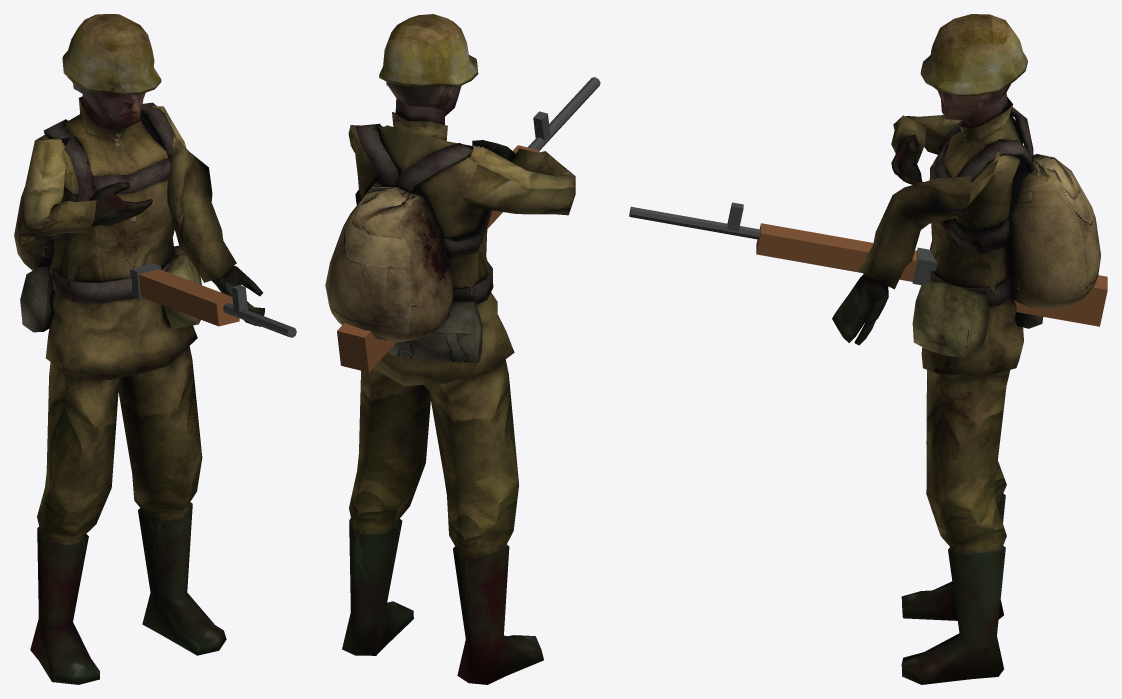
File: soviet_ww2_soldier_idle_00.glb
3 views of the same model, side by side, from view 1: azimuth 30°, elevation 25°; view 2: azimuth 150°, elevation 25°; view 3: azimuth 270°, elevation 25° (orthographic). The views are drawn at different scales.
Parts seen in each view (by area): view 1: final_Static, SovietRifle_Generated; view 2: final_Static, SovietRifle_Generated; view 3: final_Static, SovietRifle_Generated.
Part boxes in pixels (box(x1,y1,x2,y2)): final_Static: box(14, 14, 264, 684); SovietRifle_Generated: box(130, 262, 296, 337); final_Static: box(325, 14, 575, 684); SovietRifle_Generated: box(337, 77, 600, 372); final_Static: box(832, 14, 1100, 684); SovietRifle_Generated: box(629, 202, 1107, 326).
Bounding box in the file's own units: 0.6351 × 1.75 × 1.22.
Materials: 3 (1 with a texture image).
